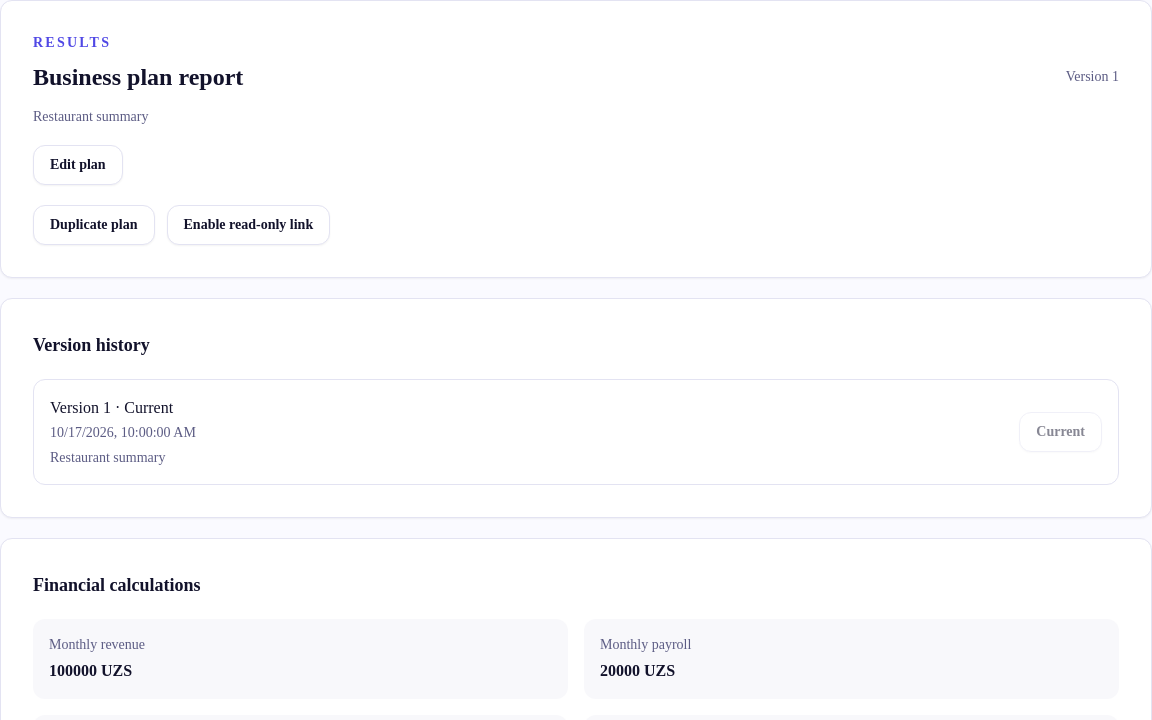
reports panel › enables, displays, and revokes a read-only share link
This screenshot has width=1152, height=720.
Click the button "Enable read-only link" at [248, 225], box [166,205,330,245]
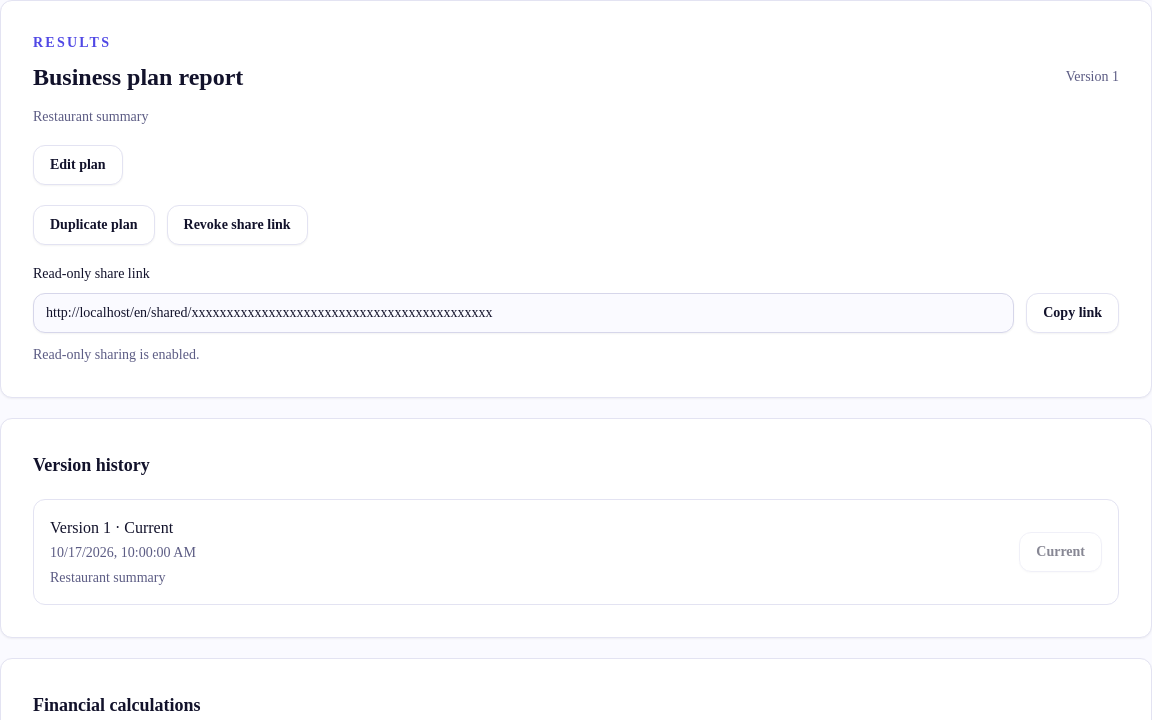
Click the button "Revoke share link" at [237, 225], box [166,205,308,245]
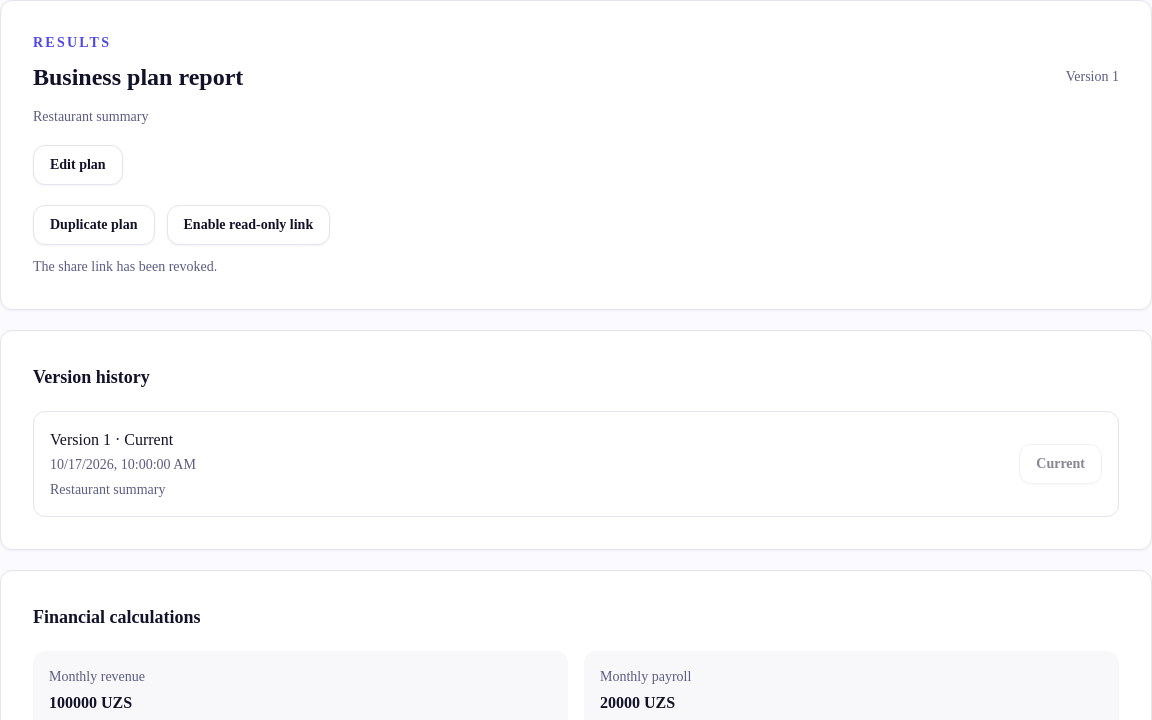
Result: the text "The share link has been revoked." is shown at [33,259,217,274]
